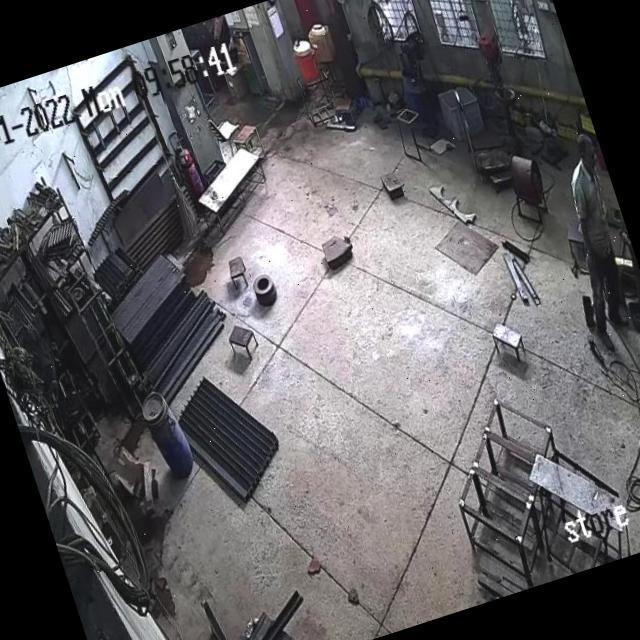person: (544, 146, 640, 339), (595, 173, 640, 349)
